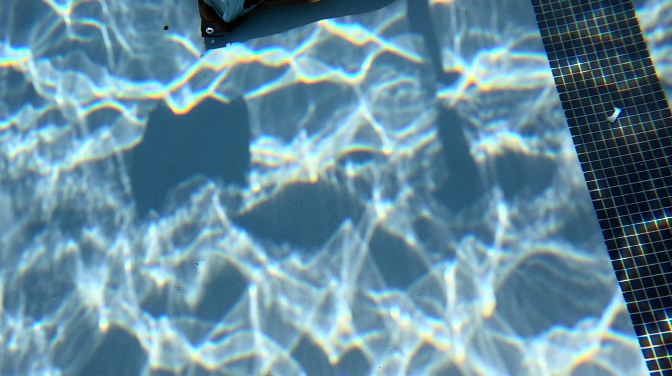sandbag: (196, 0, 320, 35)
